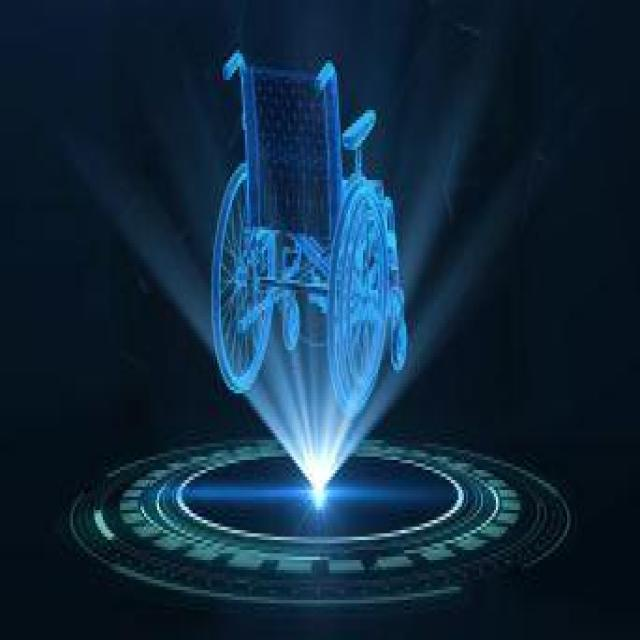wheelchairs: (205, 50, 411, 417)
